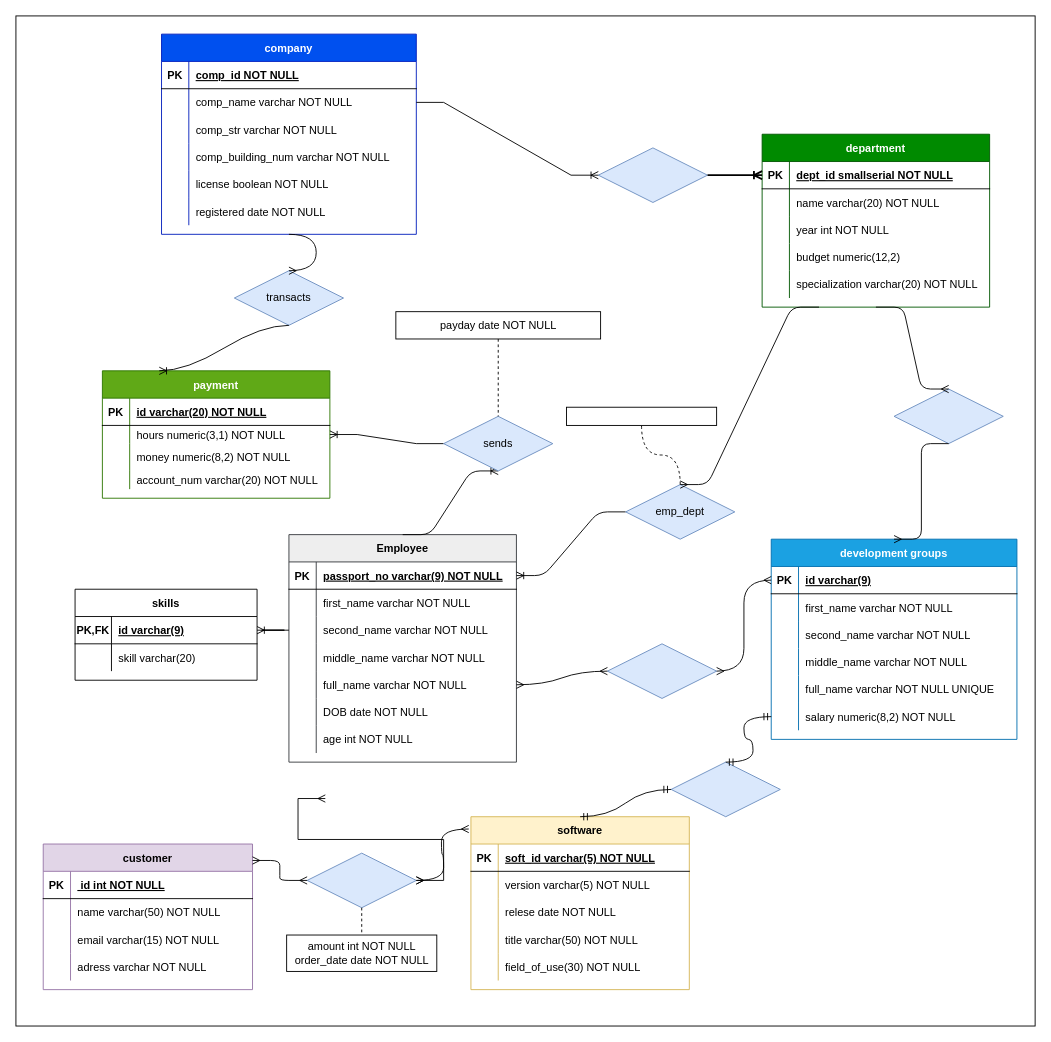
Image size: 1051x1042. Some labels were removed from this diagram. Each missing label, with the centre of its shape:
"dept_groups" goes at point 948,416.
"develops" goes at point 725,789.
"group_people" goes at point 662,670.
"joined_year int NOT NULL" goes at point 641,415.
"manages" goes at point 652,174.
"place_order" goes at point 361,880.
